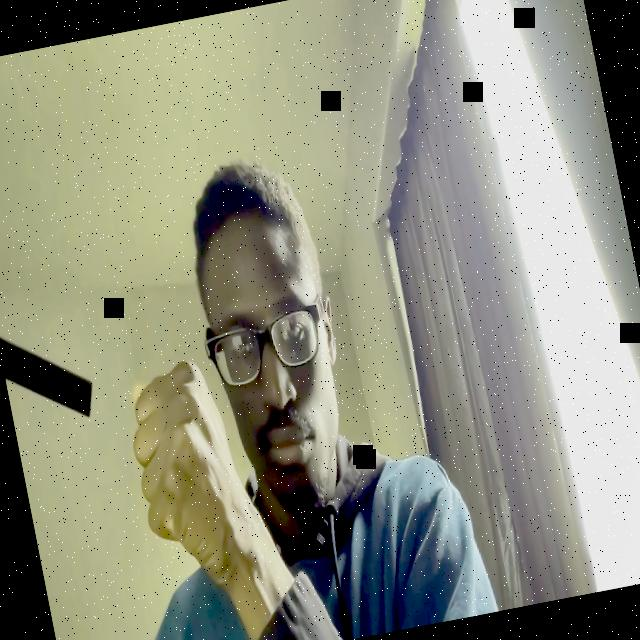Rock: (117, 352, 257, 592)
